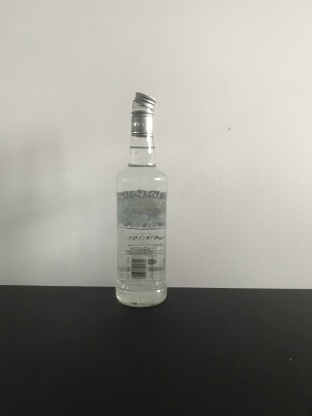nakretka: (129, 89, 157, 137)
